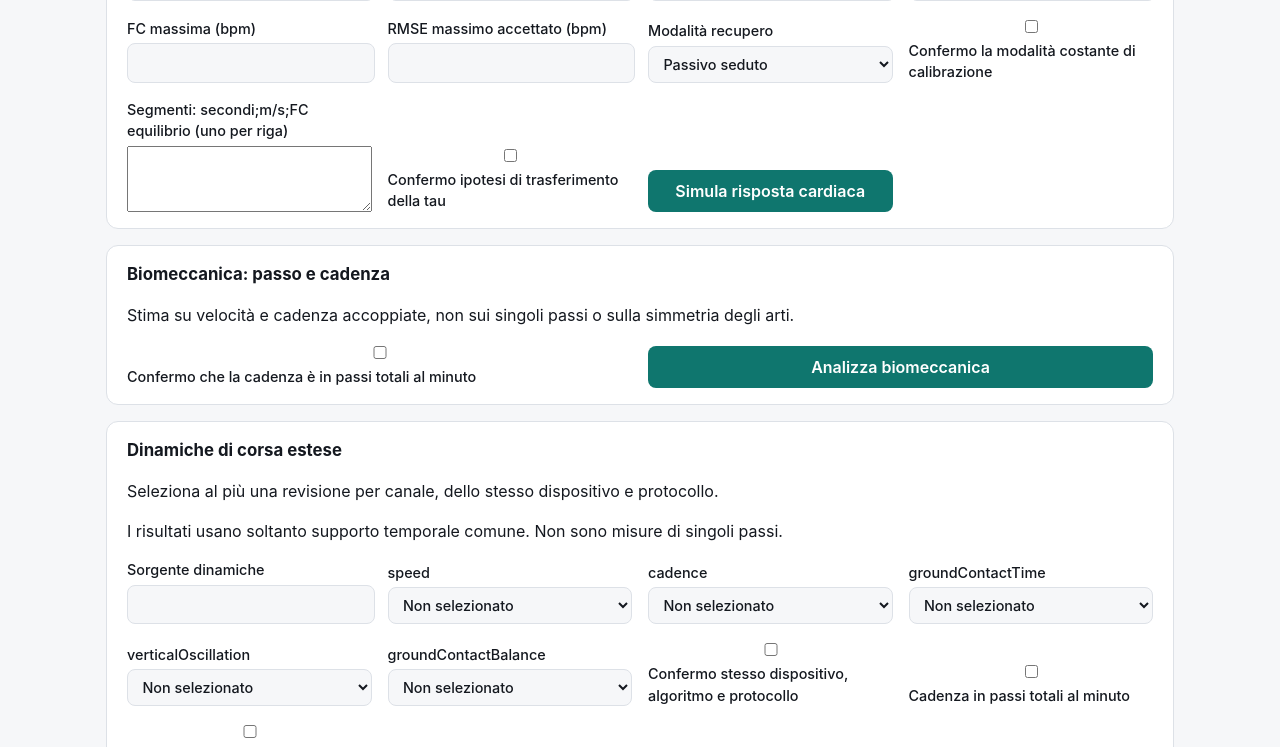
Test: biomeccanica accoppiata › richiede conferma dell'unità e mostra solo risultati supportati
(page scrolled)
Click the button "Analizza biomeccanica".
click(900, 367)  # box [648, 346, 1153, 388]
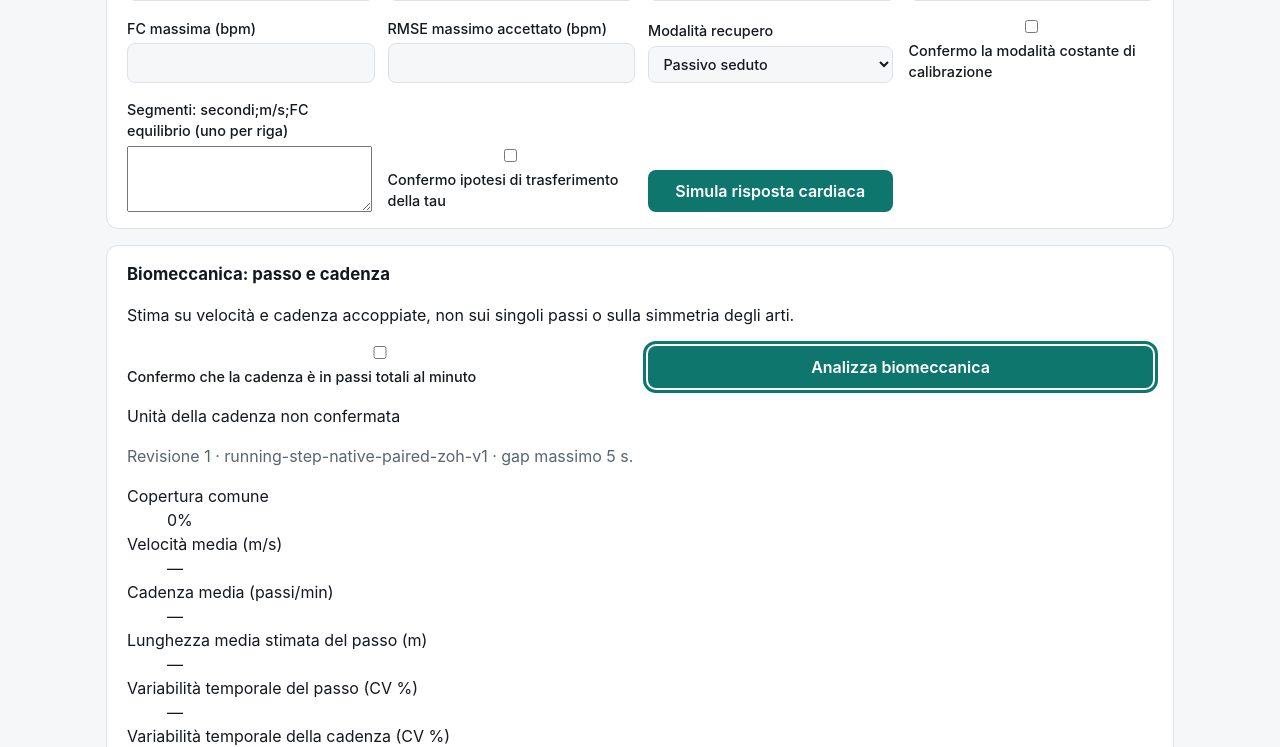
Expected: the text "Unità della cadenza non confermata" is shown, [127, 406, 400, 426]
Click the checkbox labelled "Confermo che la cadenza è in passi totali al minuto".
click(380, 353)  # box [131, 346, 629, 359]
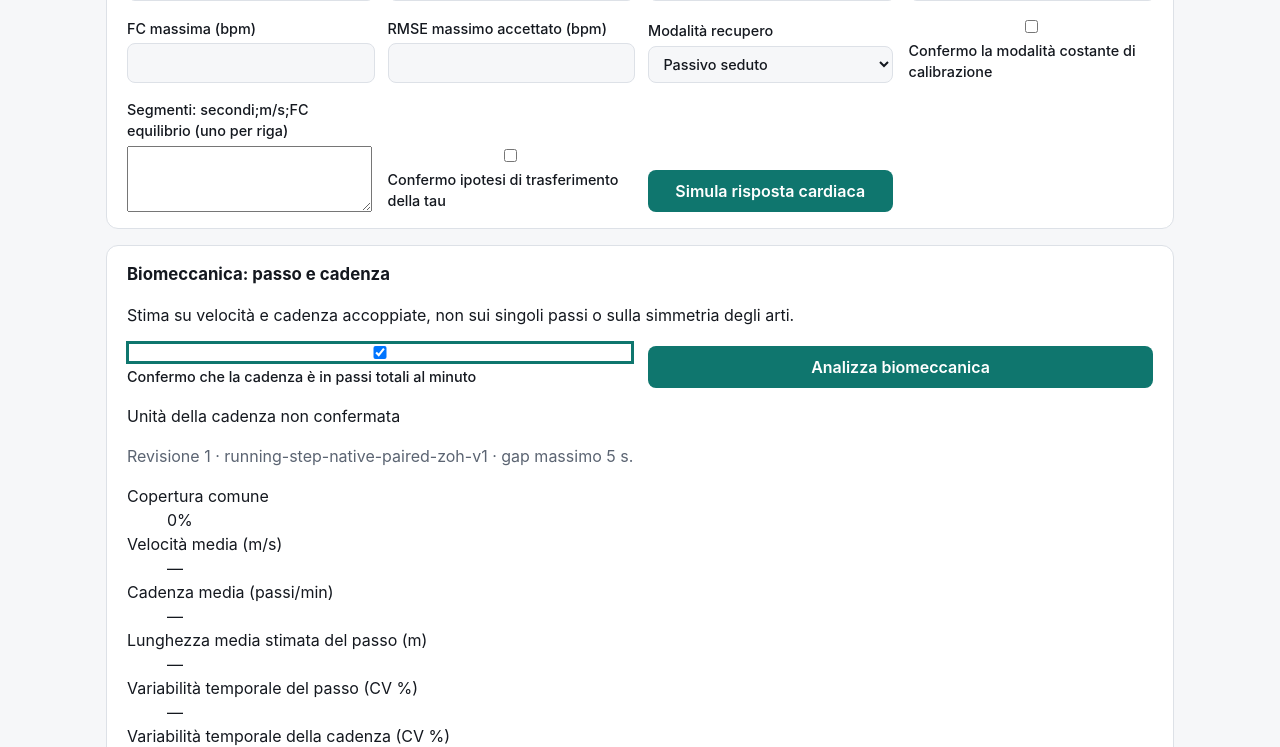
Click the button "Analizza biomeccanica".
click(900, 367)  # box [648, 346, 1153, 388]
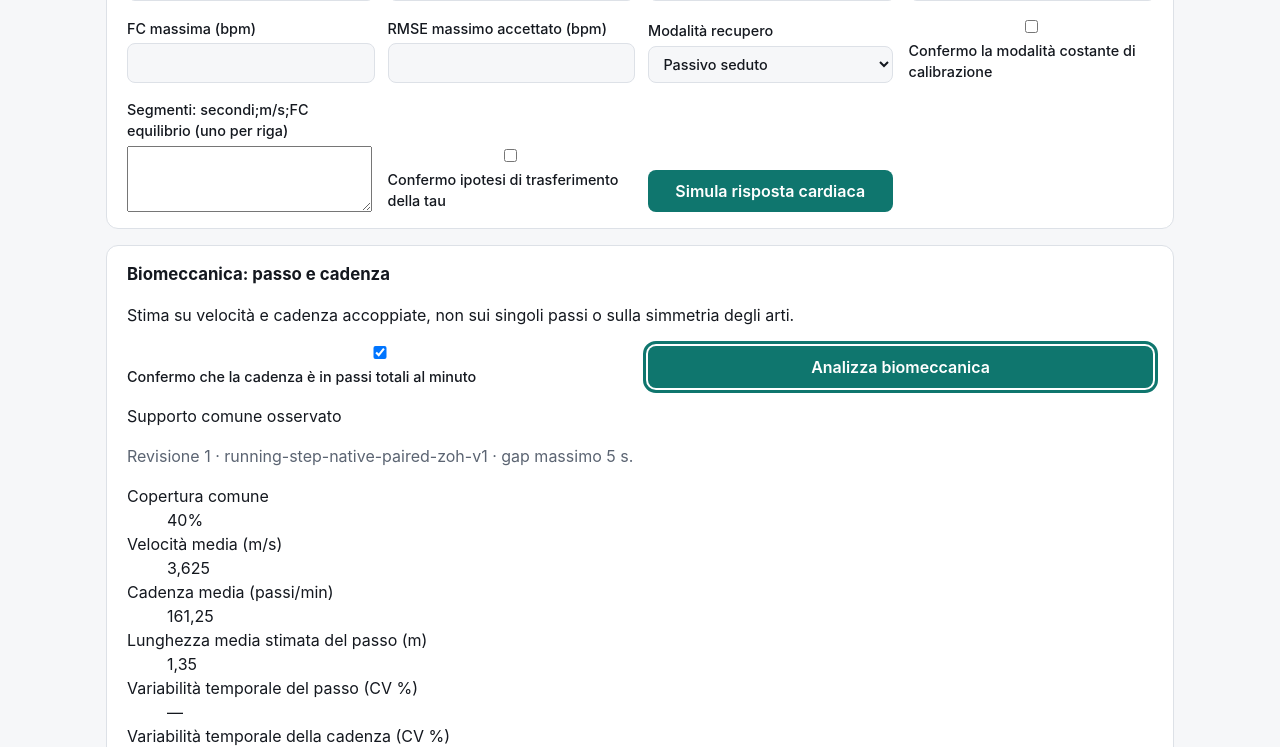
Expected: the text "1,35" is shown, [167, 654, 197, 674]
Expected: the text "40%" is shown, [167, 510, 203, 530]
